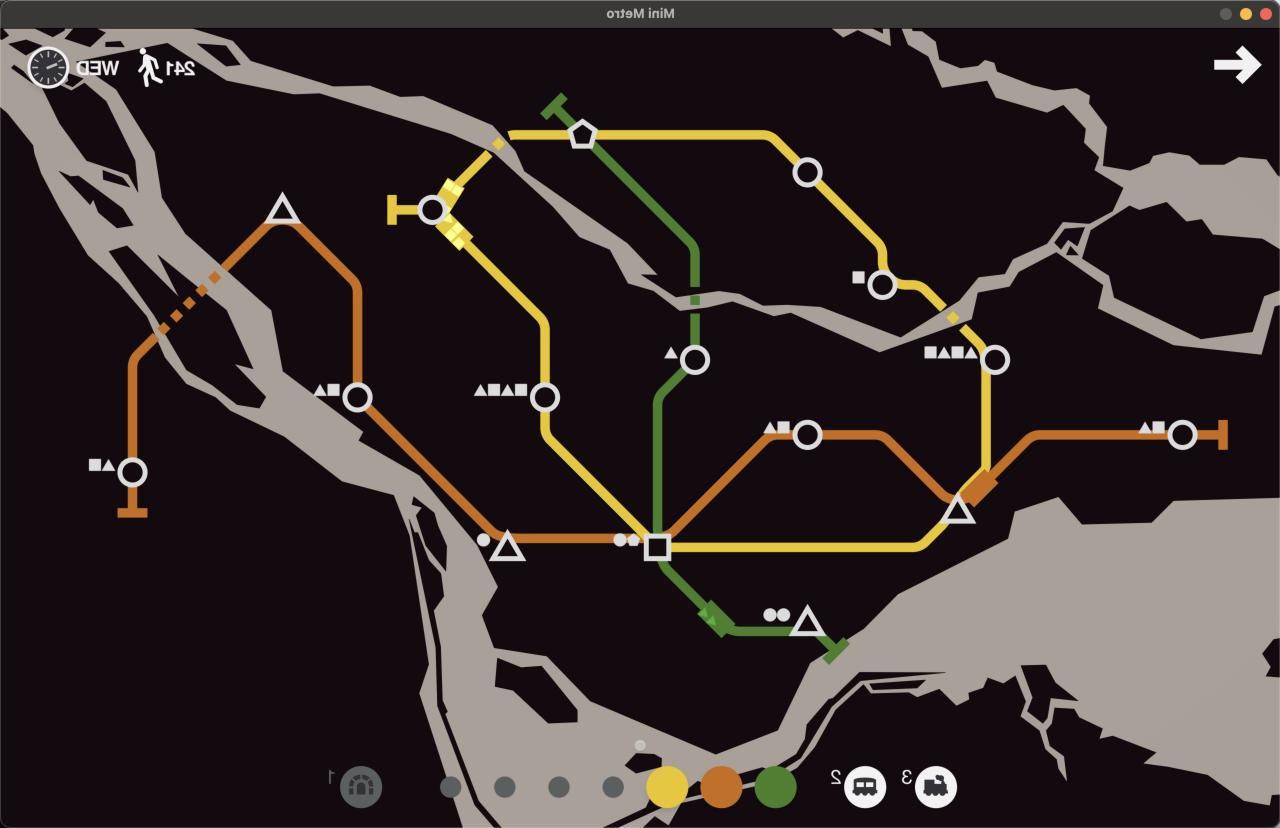DARK GREEN LINE: (592, 133, 701, 346), (660, 569, 796, 638), (651, 368, 686, 537), (539, 94, 577, 128), (815, 635, 851, 666)
ORANGE LINE: (127, 227, 269, 453), (367, 405, 502, 539), (962, 430, 1167, 504), (667, 431, 797, 535), (296, 225, 363, 381), (823, 431, 955, 502), (510, 534, 615, 543), (1198, 420, 1228, 449), (115, 487, 146, 515), (1196, 421, 1228, 448)
YELLOW LINE: (441, 220, 549, 383), (539, 412, 647, 539), (675, 519, 947, 555), (439, 129, 570, 202), (596, 130, 800, 163), (817, 180, 889, 270), (897, 278, 984, 349), (600, 130, 800, 160), (981, 370, 990, 472), (386, 196, 419, 223), (923, 288, 946, 308), (512, 131, 562, 139)
